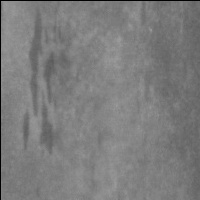inclusion: (20, 4, 66, 158)
